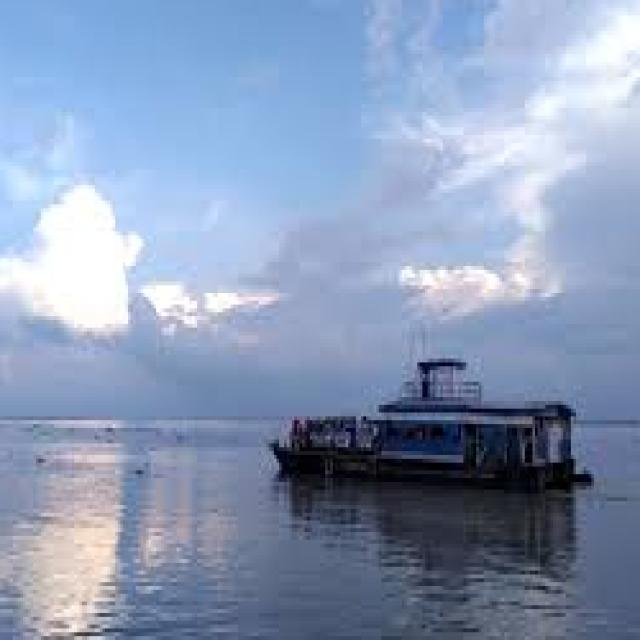fishing boat: (264, 360, 591, 486)
